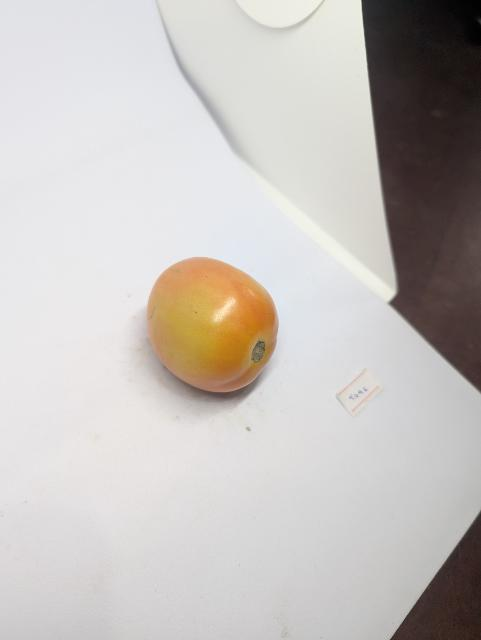turning: (133, 252, 293, 405)
